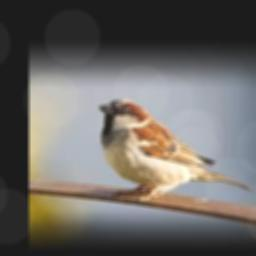Sparrow: (99, 99, 252, 201)
